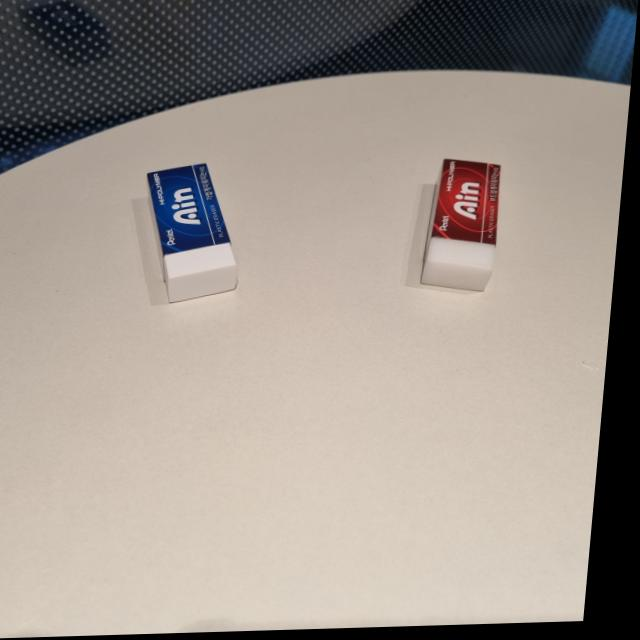blue: (136, 160, 259, 311)
red: (421, 154, 515, 304)
